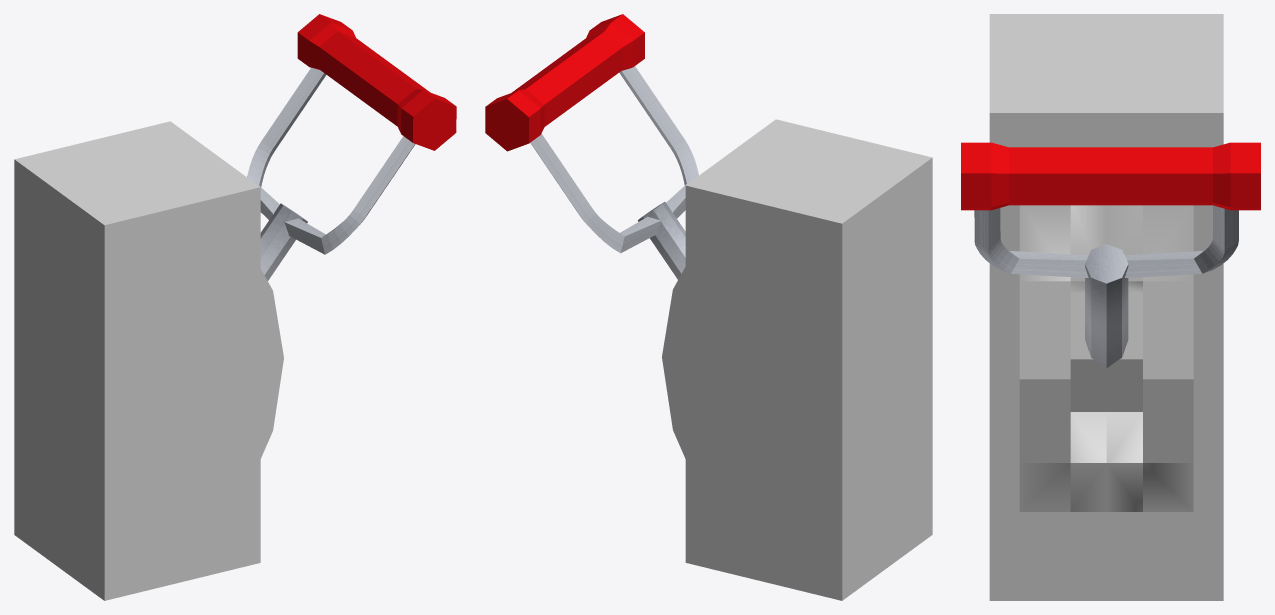
Rendered from Switch_Completed.fbx.
3 views of the same model, side by side, from view 1: azimuth 30°, elevation 25°; view 2: azimuth 150°, elevation 25°; view 3: azimuth 270°, elevation 25° (orthographic). The views are drawn at different scales.
Parts seen in each view (by area): view 1: Main, Handel, Lever, Pole; view 2: Main, Handel, Lever, Pole; view 3: Main, Handel, Lever, Pole.
Boxes of the visible parts, left/top/right/bottom form: Main: left=14, top=121, right=283, bottom=600; Handel: left=297, top=14, right=456, bottom=150; Lever: left=247, top=67, right=415, bottom=254; Pole: left=260, top=203, right=307, bottom=280; Main: left=662, top=119, right=932, bottom=600; Handel: left=485, top=14, right=644, bottom=151; Lever: left=530, top=66, right=698, bottom=253; Pole: left=638, top=202, right=685, bottom=279; Main: left=989, top=14, right=1223, bottom=600; Handel: left=961, top=142, right=1260, bottom=210; Lever: left=974, top=205, right=1238, bottom=277; Pole: left=1085, top=244, right=1128, bottom=368.
Size of the model in its own units: 190 by 230 by 111.
4 materials, 2 textured.
